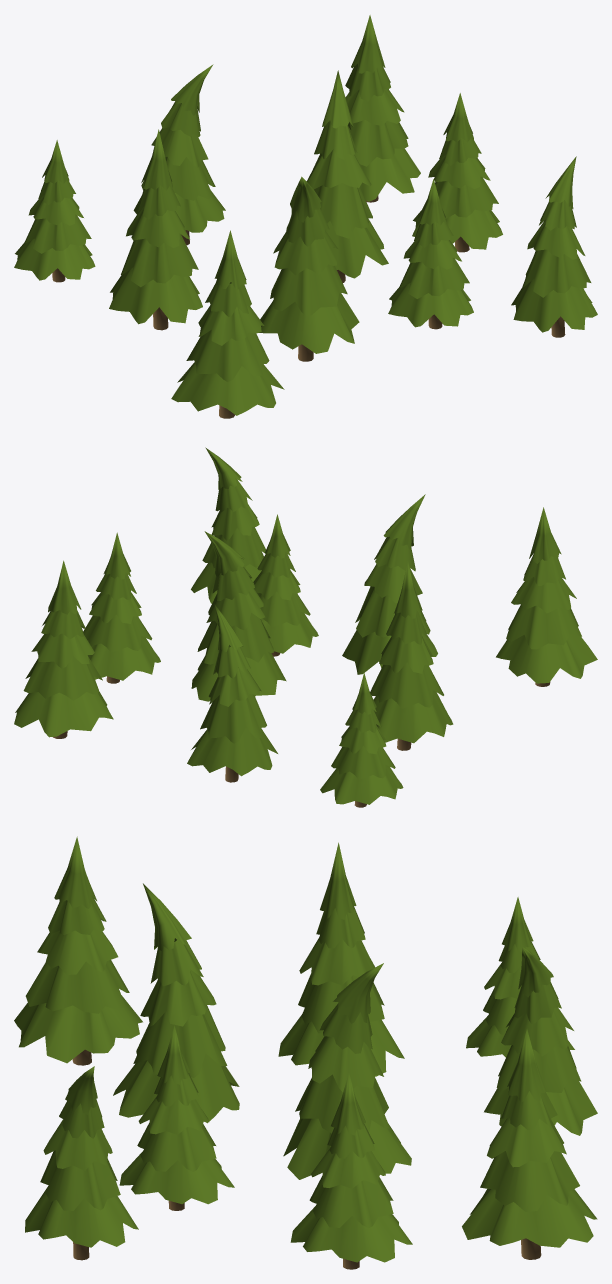
Rendered from Resource_PineTree_Group.glb.
3 views of the same model, one above another, from view 1: azimuth 30°, elevation 25°; view 2: azimuth 150°, elevation 25°; view 3: azimuth 270°, elevation 25° (orthographic). The views are drawn at different scales.
Parts seen in each view (by area): view 1: Resource_PineTree_Group; view 2: Resource_PineTree_Group; view 3: Resource_PineTree_Group.
Part boxes in pixels (bbox=[...]): Resource_PineTree_Group: bbox=[14, 15, 597, 418]; Resource_PineTree_Group: bbox=[14, 447, 597, 807]; Resource_PineTree_Group: bbox=[14, 836, 597, 1269].
Size of the model in its own units: 1.78 by 0.7883 by 1.73.
